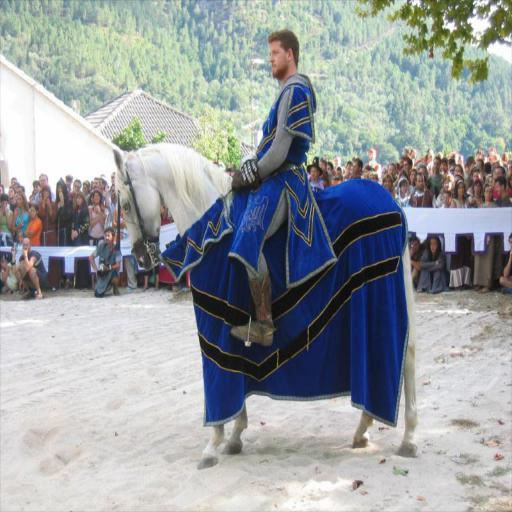horse: (112, 142, 418, 470)
